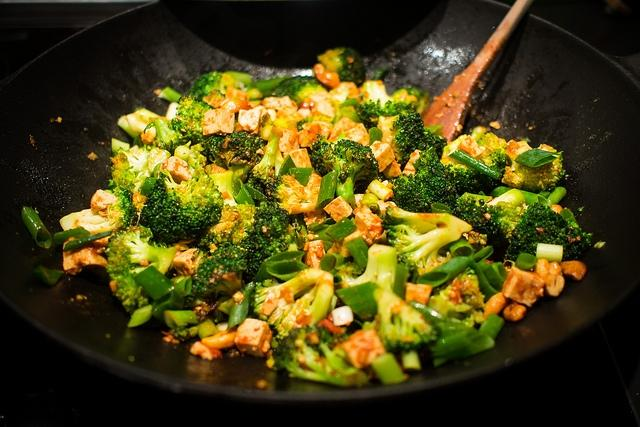broccoli: (381, 206, 472, 284), (139, 168, 224, 244), (272, 324, 369, 387), (504, 202, 593, 262), (308, 139, 379, 208), (237, 200, 291, 284), (390, 150, 460, 213), (374, 287, 439, 352), (390, 109, 448, 174), (105, 224, 176, 276), (334, 243, 396, 302), (205, 131, 268, 184), (192, 246, 250, 298), (172, 93, 216, 150), (273, 286, 318, 340), (360, 80, 416, 119), (249, 125, 283, 185), (317, 47, 366, 88), (270, 75, 328, 108), (185, 71, 242, 102), (486, 202, 524, 240), (490, 152, 508, 182)
green onion: (428, 328, 496, 368), (416, 256, 472, 288), (335, 281, 380, 319), (448, 150, 502, 180), (134, 265, 175, 300), (227, 282, 256, 330), (370, 352, 410, 386), (490, 186, 550, 208), (22, 206, 52, 249), (468, 262, 499, 303), (63, 229, 113, 252), (151, 290, 183, 322), (266, 259, 310, 281), (315, 170, 339, 210), (514, 148, 561, 168), (210, 171, 237, 205), (408, 300, 446, 322), (325, 216, 357, 242), (344, 237, 368, 269), (54, 225, 90, 246), (478, 262, 503, 292), (478, 313, 505, 340), (225, 71, 258, 92), (33, 264, 64, 286), (163, 310, 200, 328), (255, 74, 291, 92), (536, 243, 563, 266), (447, 235, 474, 258), (232, 179, 255, 206), (367, 179, 394, 202), (392, 264, 408, 300), (128, 305, 153, 328), (319, 252, 344, 274), (286, 168, 314, 187), (125, 112, 148, 133), (198, 318, 220, 338), (515, 253, 538, 271), (278, 155, 297, 176), (490, 262, 508, 283), (340, 106, 361, 124), (175, 276, 192, 298), (546, 186, 566, 204), (430, 202, 453, 216), (112, 137, 130, 154), (560, 208, 578, 224), (360, 193, 380, 206)
